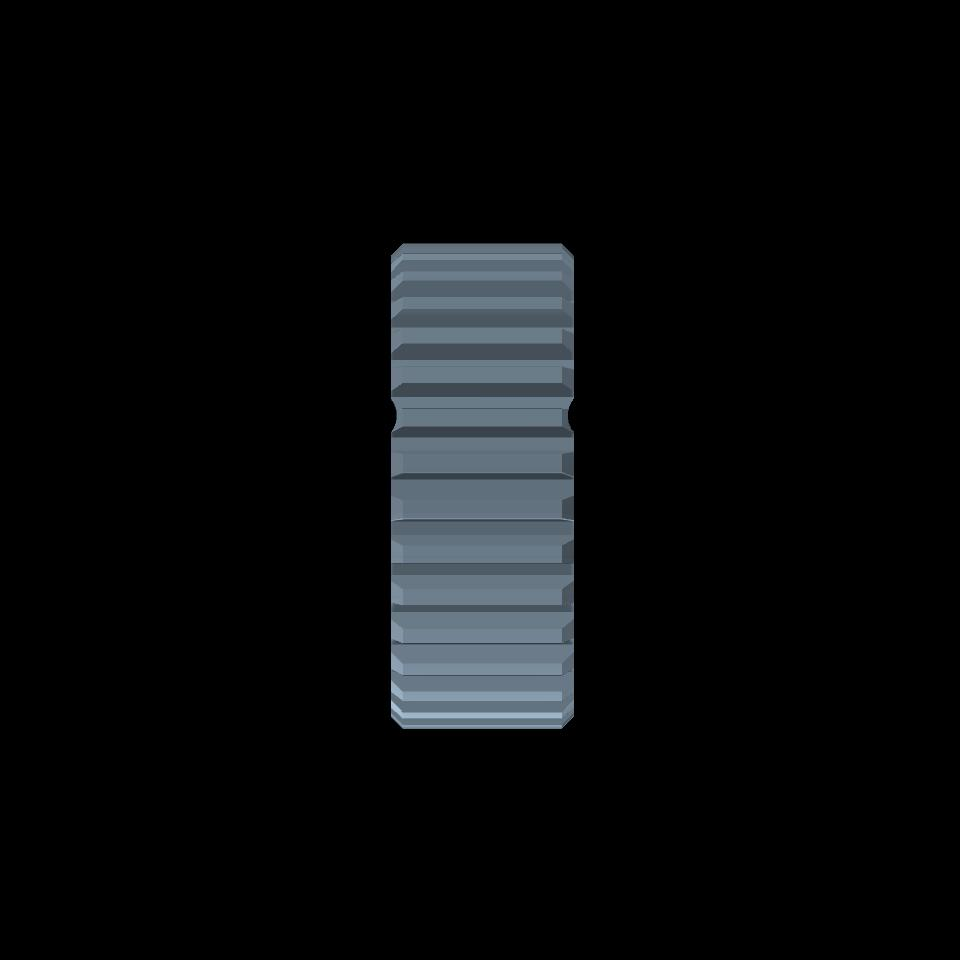Straight: (404, 244, 562, 728)
